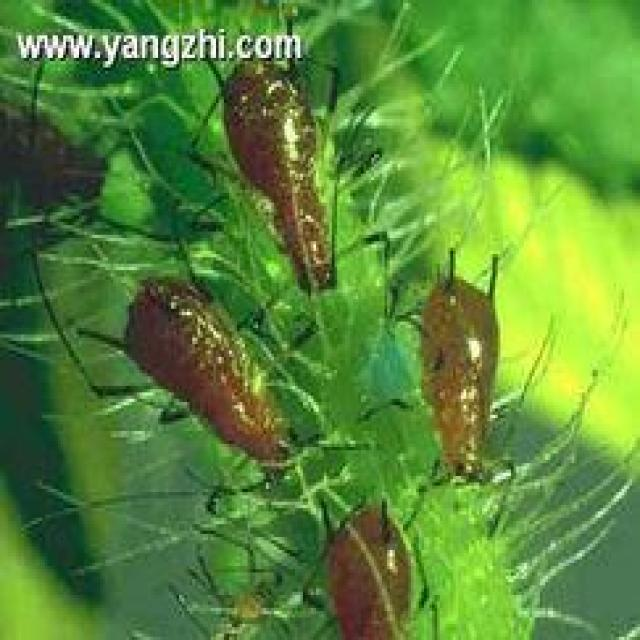Aphids: (59, 226, 346, 522), (341, 232, 567, 564), (204, 59, 401, 316)
